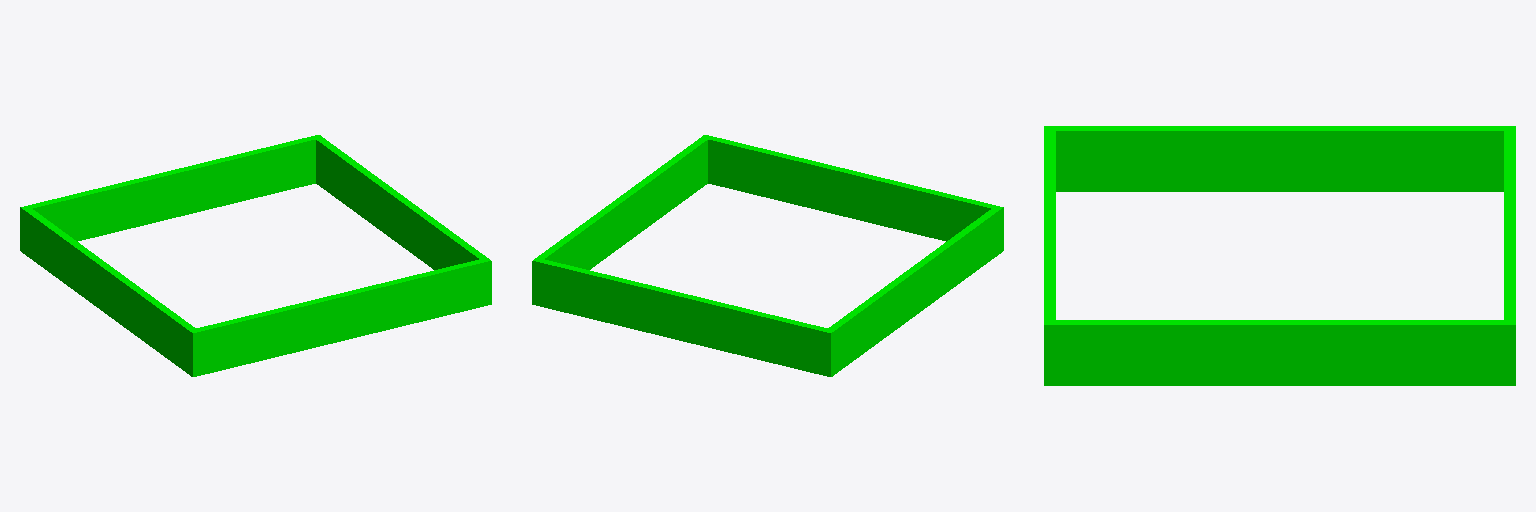
The robot description file, URDF, robot "enclosure":
<?xml version="0.0" ?>
<robot name="enclosure">
  <link name="enclosure">
  <contact>
      <lateral_friction value="1"/>
  </contact>
    <inertial>
      <origin rpy="0 0 0" xyz="0 0 0"/>
       <mass value=".0"/>
       <inertia ixx="0" ixy="0" ixz="0" iyy="0" iyz="0" izz="0"/>
    </inertial>
    <visual>
      <origin rpy="0 0 0" xyz="0 0 0"/>
      <geometry>
	<mesh filename="enclosure.obj" scale="1 1 1"/>
      </geometry>
       <material name="green">
        <color rgba="0 1 0 1"/>
      </material>
    </visual>
    <collision>
      <origin rpy="0 0 0" xyz="0 0 0"/>
      <geometry>
	<mesh filename="enclosure_collision.obj" scale="1 1 1"/>
      </geometry>
    </collision>
  </link>
</robot>

--- Facts derived from the render (not from the file) ---
The picture shows the robot from 3 angles, left to right: view 1: azimuth 30°, elevation 25°; view 2: azimuth 150°, elevation 25°; view 3: azimuth 270°, elevation 25°; orthographic projection.
Model enclosure with 1 links and 0 joints (none), rooted at enclosure, posed every joint at zero.
Visible links, largest first — view 1: enclosure; view 2: enclosure; view 3: enclosure.
Link boxes in pixels (<box>): enclosure: <box>20,135,491,376</box>; enclosure: <box>532,135,1003,376</box>; enclosure: <box>1044,126,1515,385</box>.
Bounding box of the posed robot: 4 × 4 × 0.564 m (x, y, z).
1 mesh visuals loaded from 1 distinct referenced files (1 OBJ).